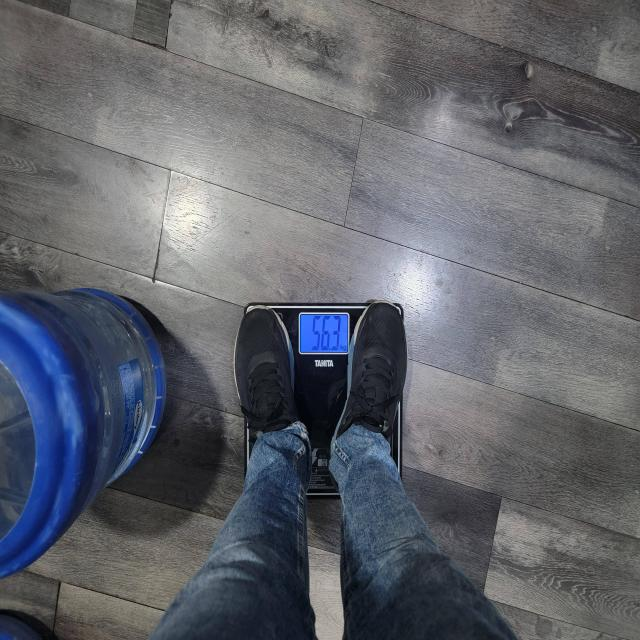ws: (244, 305, 367, 468)
